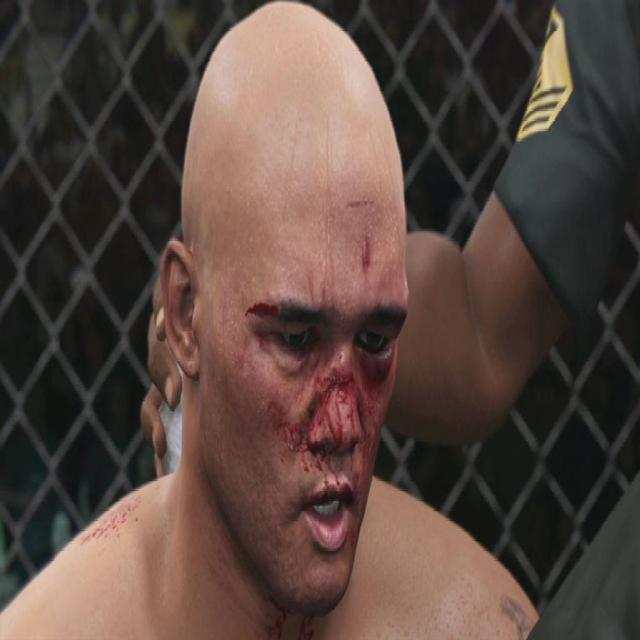flood: (250, 252, 408, 490)
